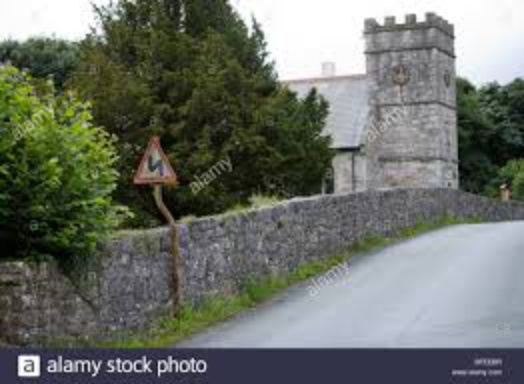Double_bend_left: (130, 134, 178, 184)
